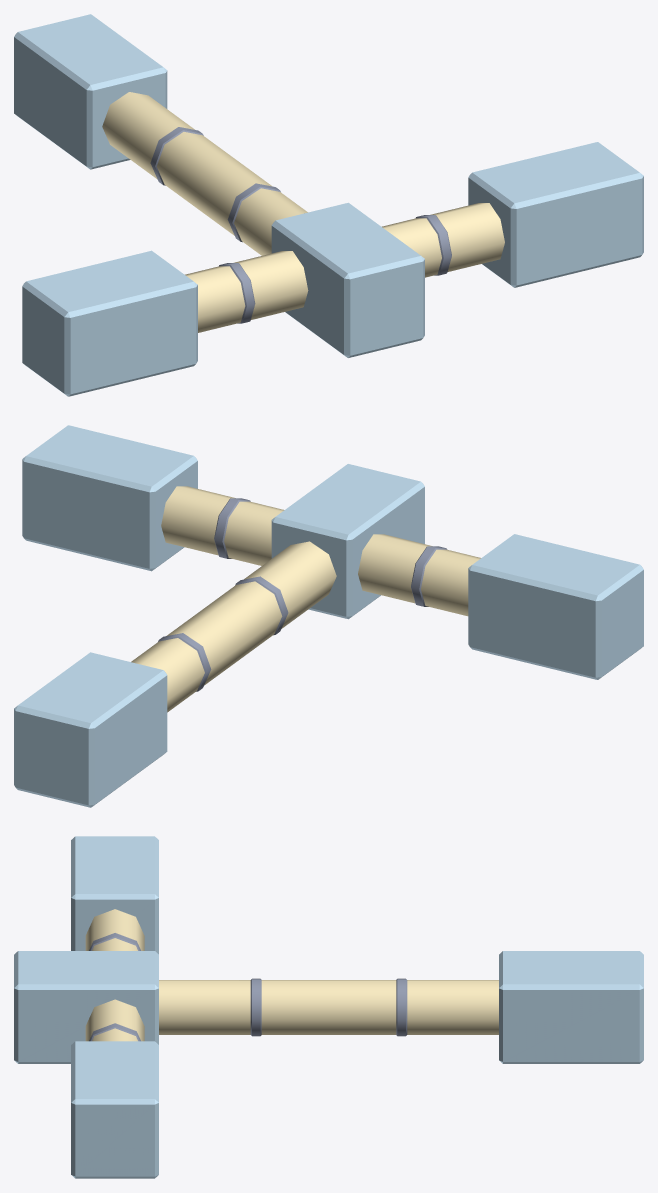
The model's file is R4C_ROD_T_LOD1.glb.
3 renders of one model, top to bottom at view 1: azimuth 30°, elevation 25°; view 2: azimuth 150°, elevation 25°; view 3: azimuth 270°, elevation 25°, orthographic. The views are drawn at different scales.
Visible parts, largest first — view 1: R4C_ROD_T_LOD1; view 2: R4C_ROD_T_LOD1; view 3: R4C_ROD_T_LOD1.
Part boxes in pixels (x1=…): R4C_ROD_T_LOD1: x1=14, y1=14, x2=643, y2=396; R4C_ROD_T_LOD1: x1=14, y1=425, x2=643, y2=807; R4C_ROD_T_LOD1: x1=14, y1=836, x2=643, y2=1178.
Size of the model in its own units: 1.62 by 0.226 by 1.62.
